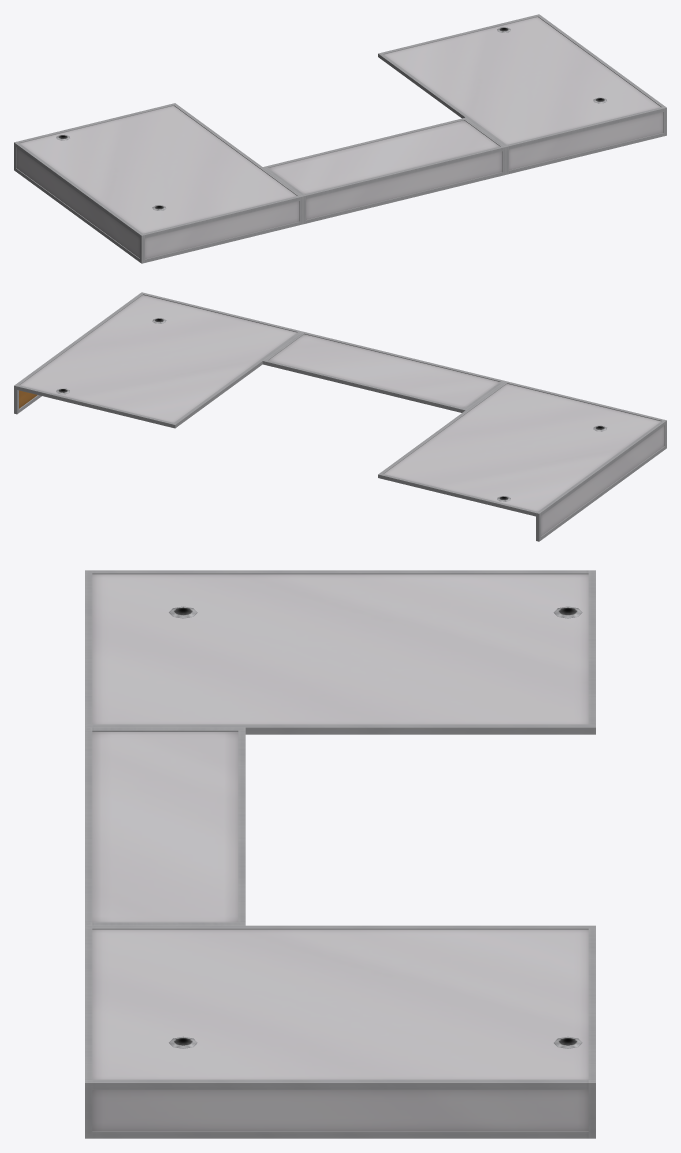
File: jsf_4P_s02_c04_t02_DX.fbx
The picture shows the model from 3 angles, top to bottom: view 1: azimuth 30°, elevation 25°; view 2: azimuth 150°, elevation 25°; view 3: azimuth 270°, elevation 25°; orthographic projection. The views are drawn at different scales.
Parts seen in each view (by area): view 1: jsf_4P_s02_c04_t02_DX; view 2: jsf_4P_s02_c04_t02_DX; view 3: jsf_4P_s02_c04_t02_DX.
Boxes of the visible parts, bbox=[...] form: jsf_4P_s02_c04_t02_DX: bbox=[14, 14, 666, 263]; jsf_4P_s02_c04_t02_DX: bbox=[14, 292, 666, 541]; jsf_4P_s02_c04_t02_DX: bbox=[85, 570, 595, 1138].
Bounding box in the file's own units: 246 × 12.99 × 104.
